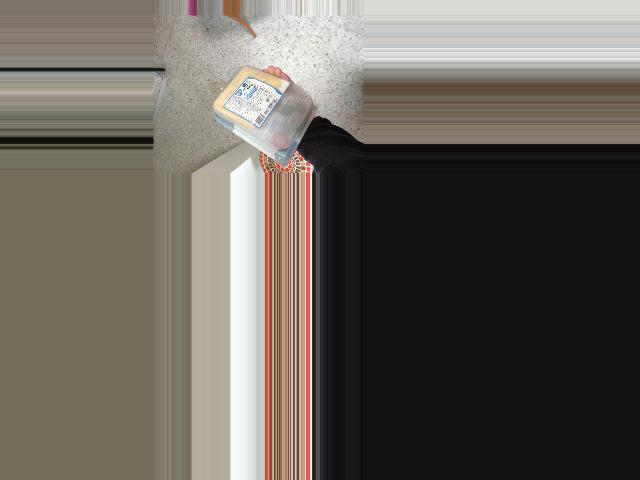cheese: (214, 66, 307, 151)
